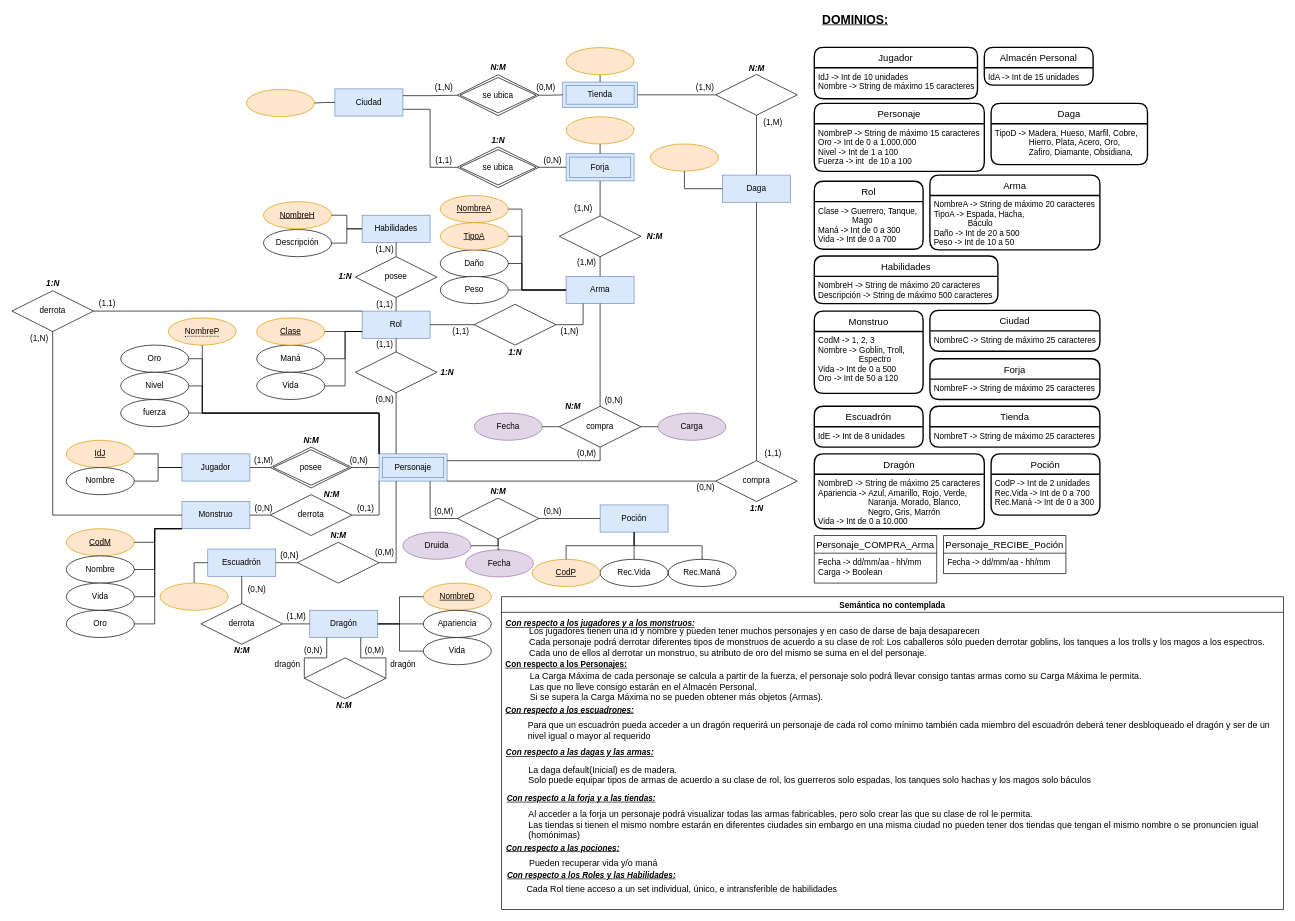
Image size: 1295x921. Some labels were removed from this diagram. Here are the shapes that lost their labels. From the top down, the centre of each, then its label:
At point (599, 61): "NombreT".
At point (280, 103): "NombreC".
At point (756, 94): "vende".
At point (599, 130): "NombreF".
At point (684, 157): "TipoD".
At point (600, 236): "crea".
At point (515, 324): "tiene".
At point (396, 372): "pertenece".
At point (498, 518): "recibe".
At point (338, 562): "entra".
At point (193, 596): "IdE".
At point (345, 678): "desbloquea".
